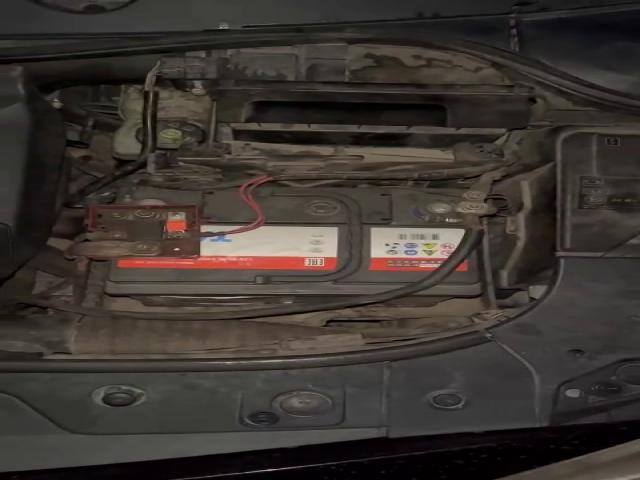accumulator: (83, 184, 487, 308)
fuse_box: (558, 132, 640, 255)
